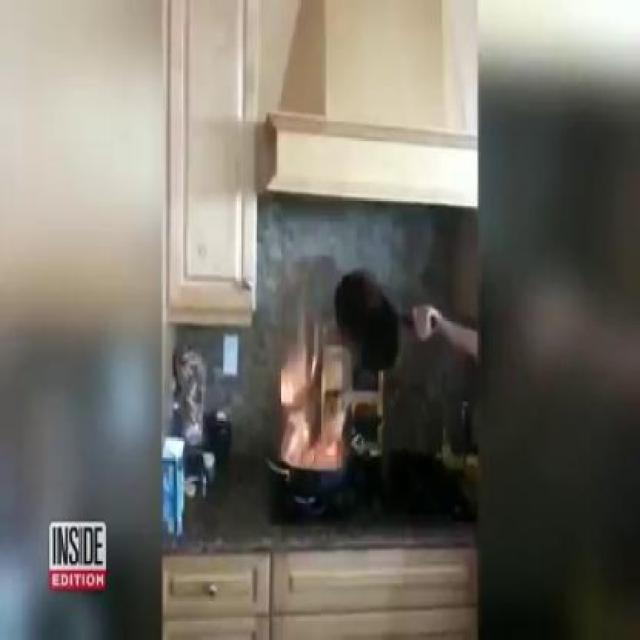fire: (277, 326, 351, 476)
